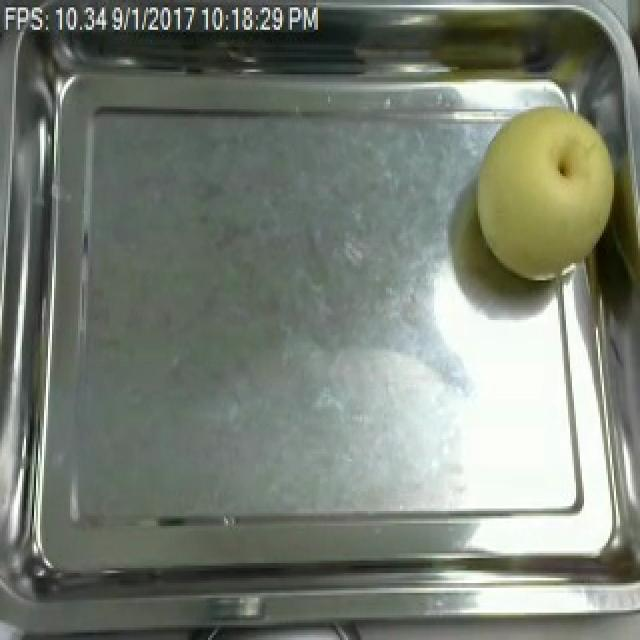Fruit: (462, 90, 632, 290)
